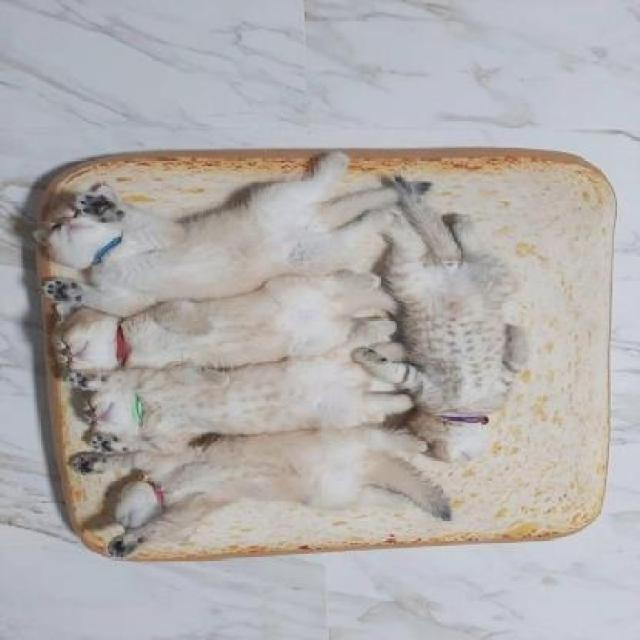cat: (24, 153, 391, 281), (59, 446, 459, 562), (381, 190, 522, 482), (15, 282, 377, 368), (44, 365, 422, 440)
